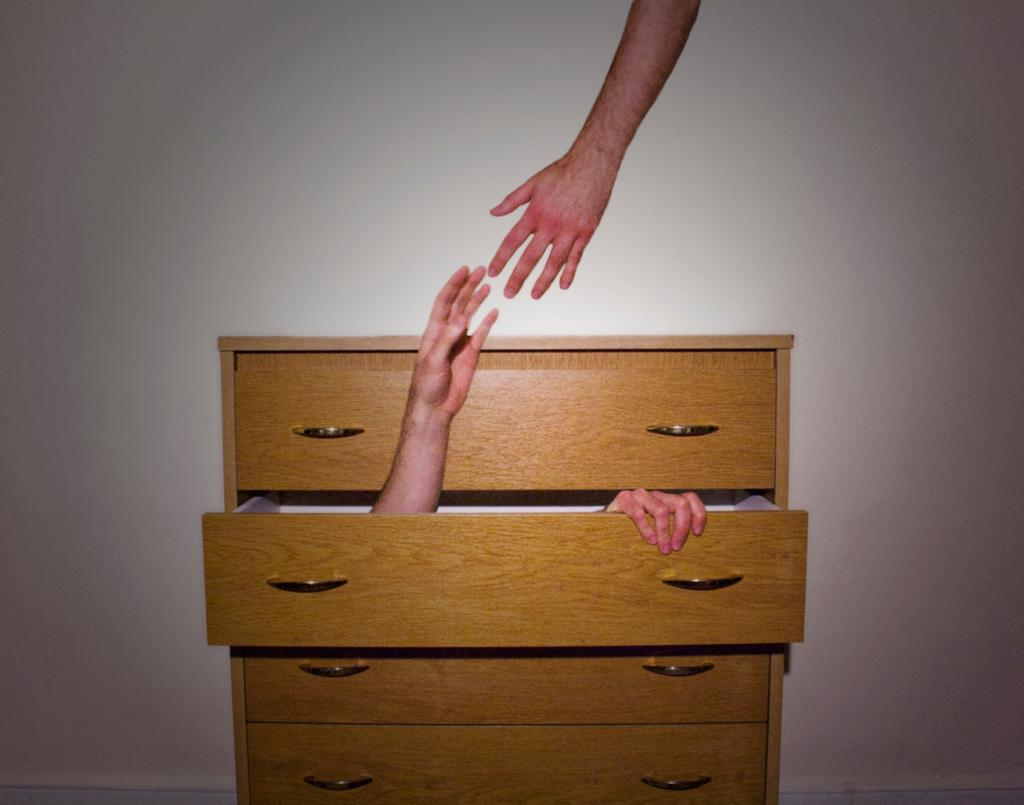cabinet_door: (235, 354, 776, 495), (204, 518, 806, 638), (251, 728, 761, 805), (244, 654, 770, 726)
handle: (266, 572, 356, 608), (662, 564, 744, 600), (301, 769, 380, 800), (302, 653, 370, 688), (653, 652, 716, 688), (646, 768, 716, 800), (649, 418, 727, 443), (297, 420, 359, 448)
